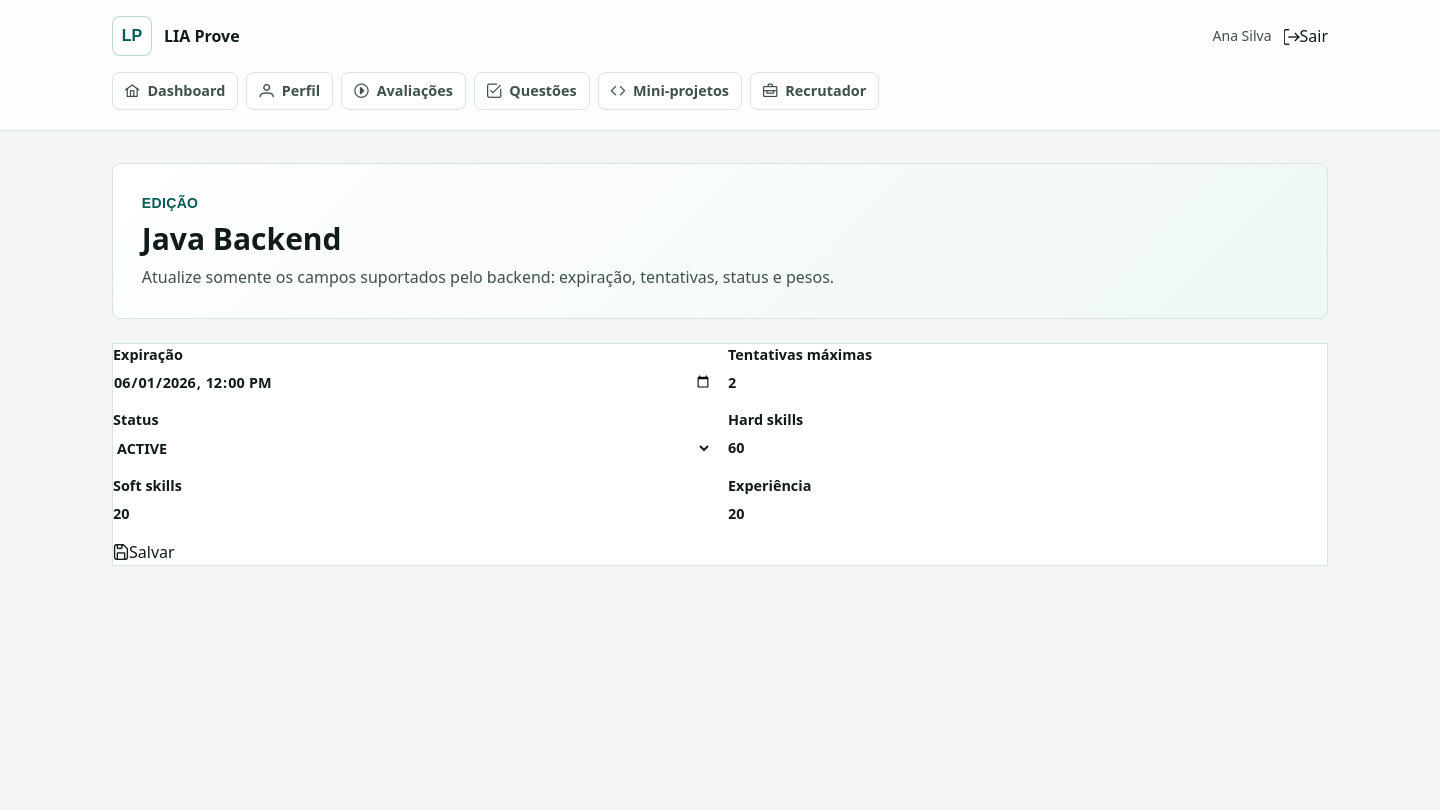
it: RecruiterAssessmentEditView › validates criteria weights sum before updating
The width and height of the screenshot is (1440, 810).
Step 1. Replace the text in the number field with test id "edit-weight-experience" with "10" → (1028, 514), box [728, 503, 1327, 524]
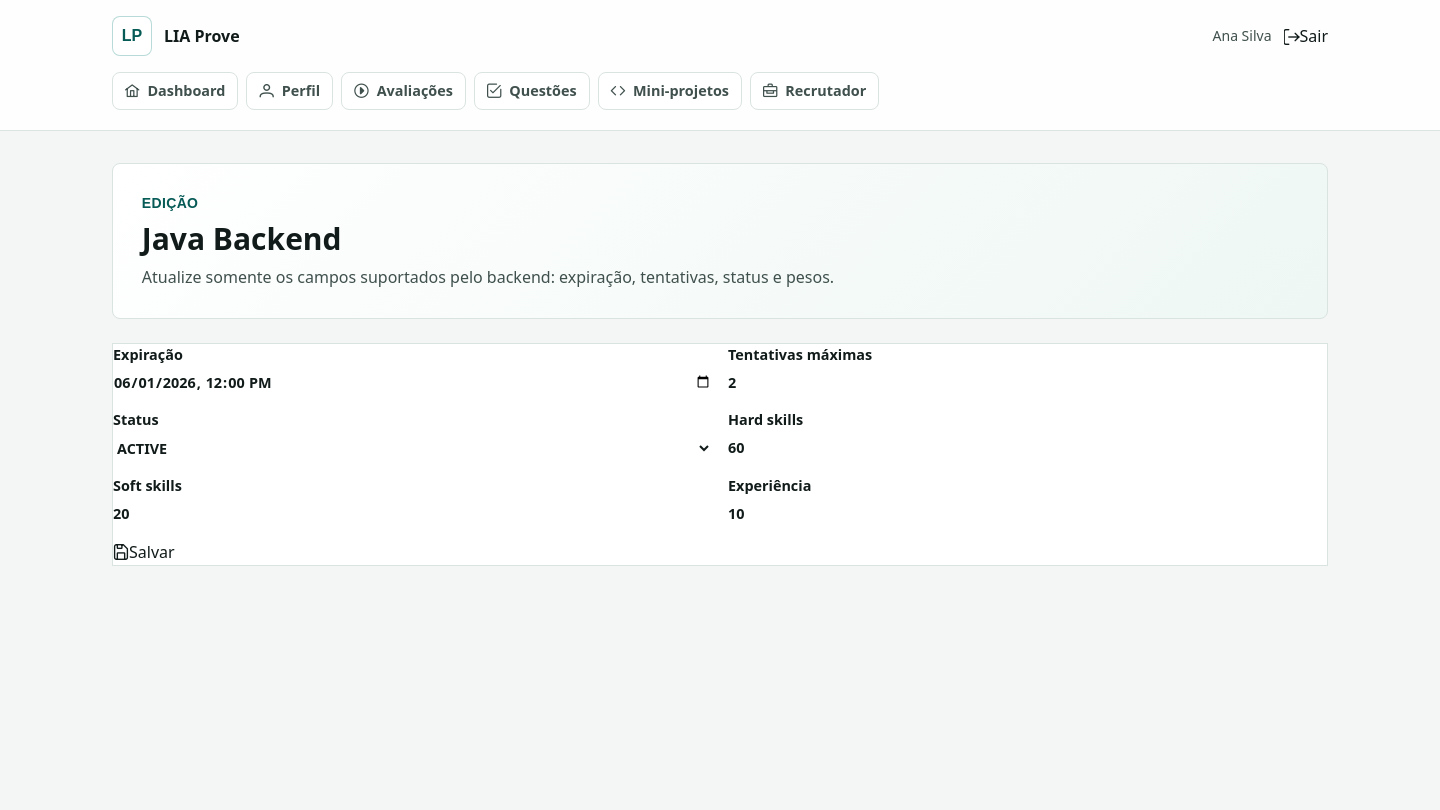
Step 2. Click the button with test id "save-assessment" → click(144, 552), box [113, 540, 175, 564]
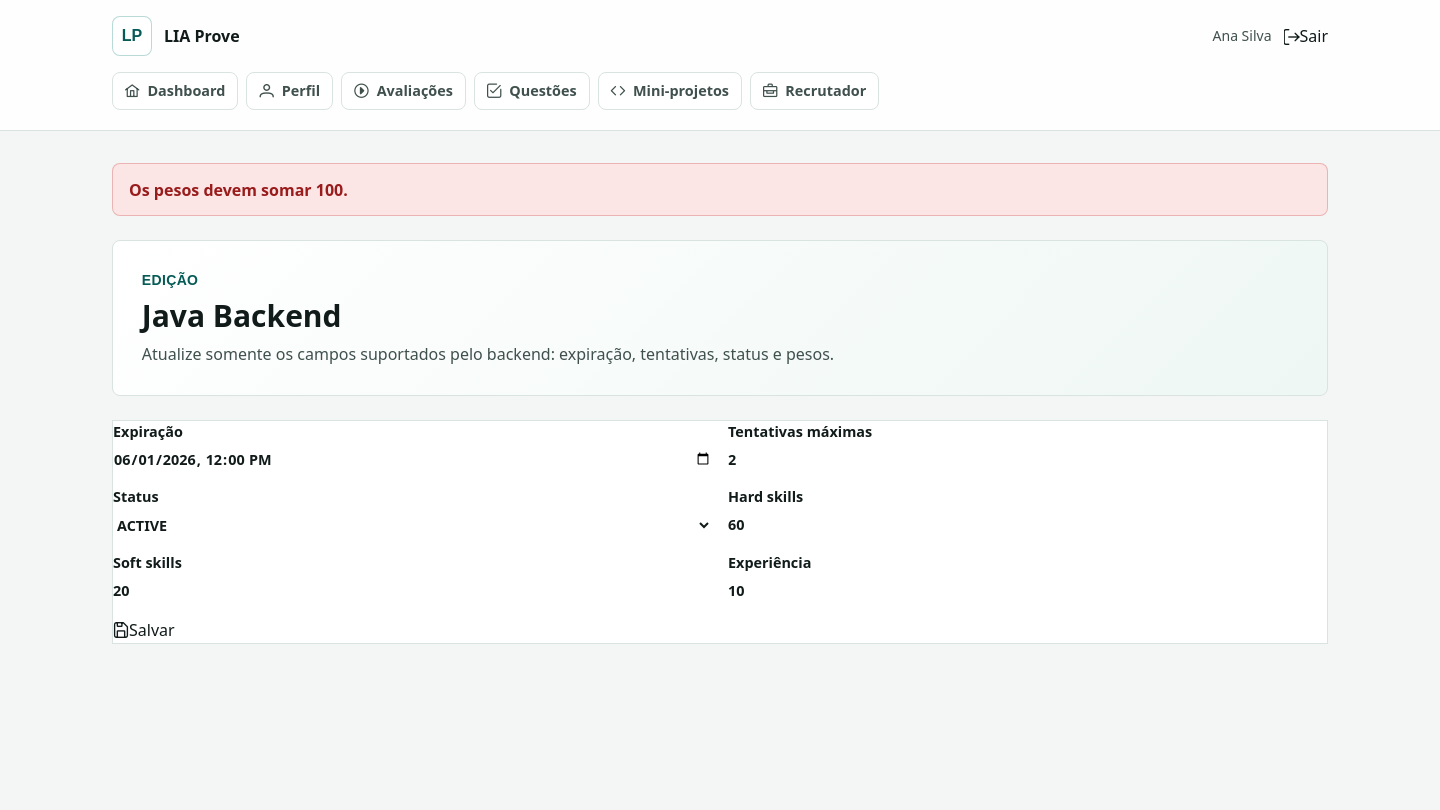
Check: the text "Os pesos devem somar 100." is shown, box [112, 163, 1328, 216]
